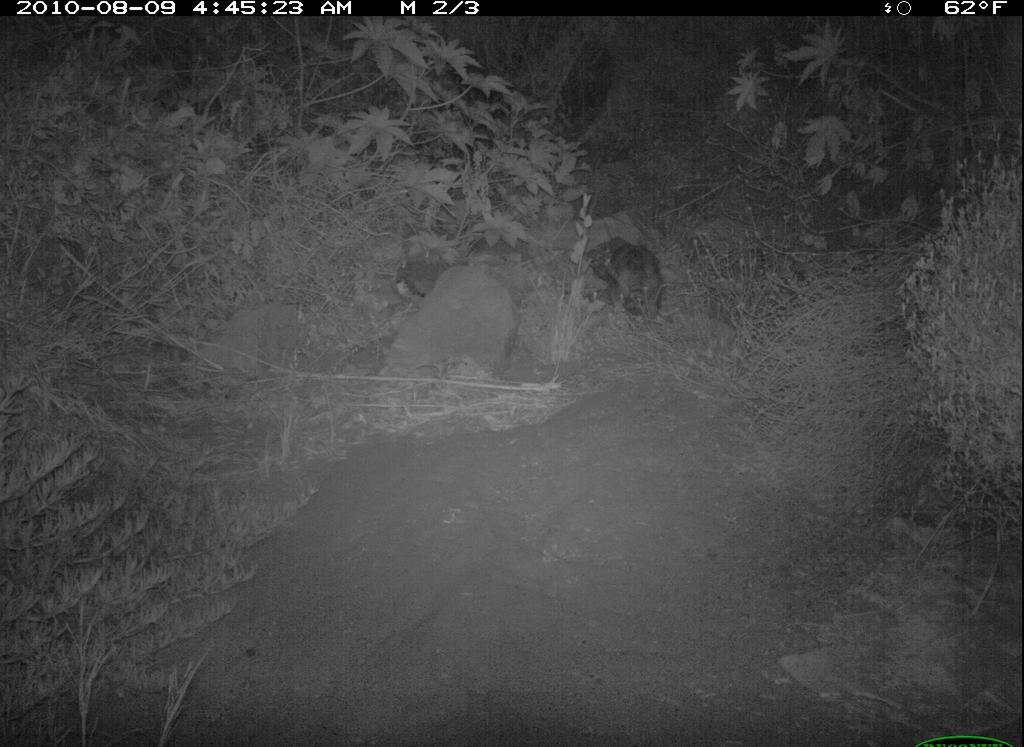raccoon: (576, 234, 673, 331)
